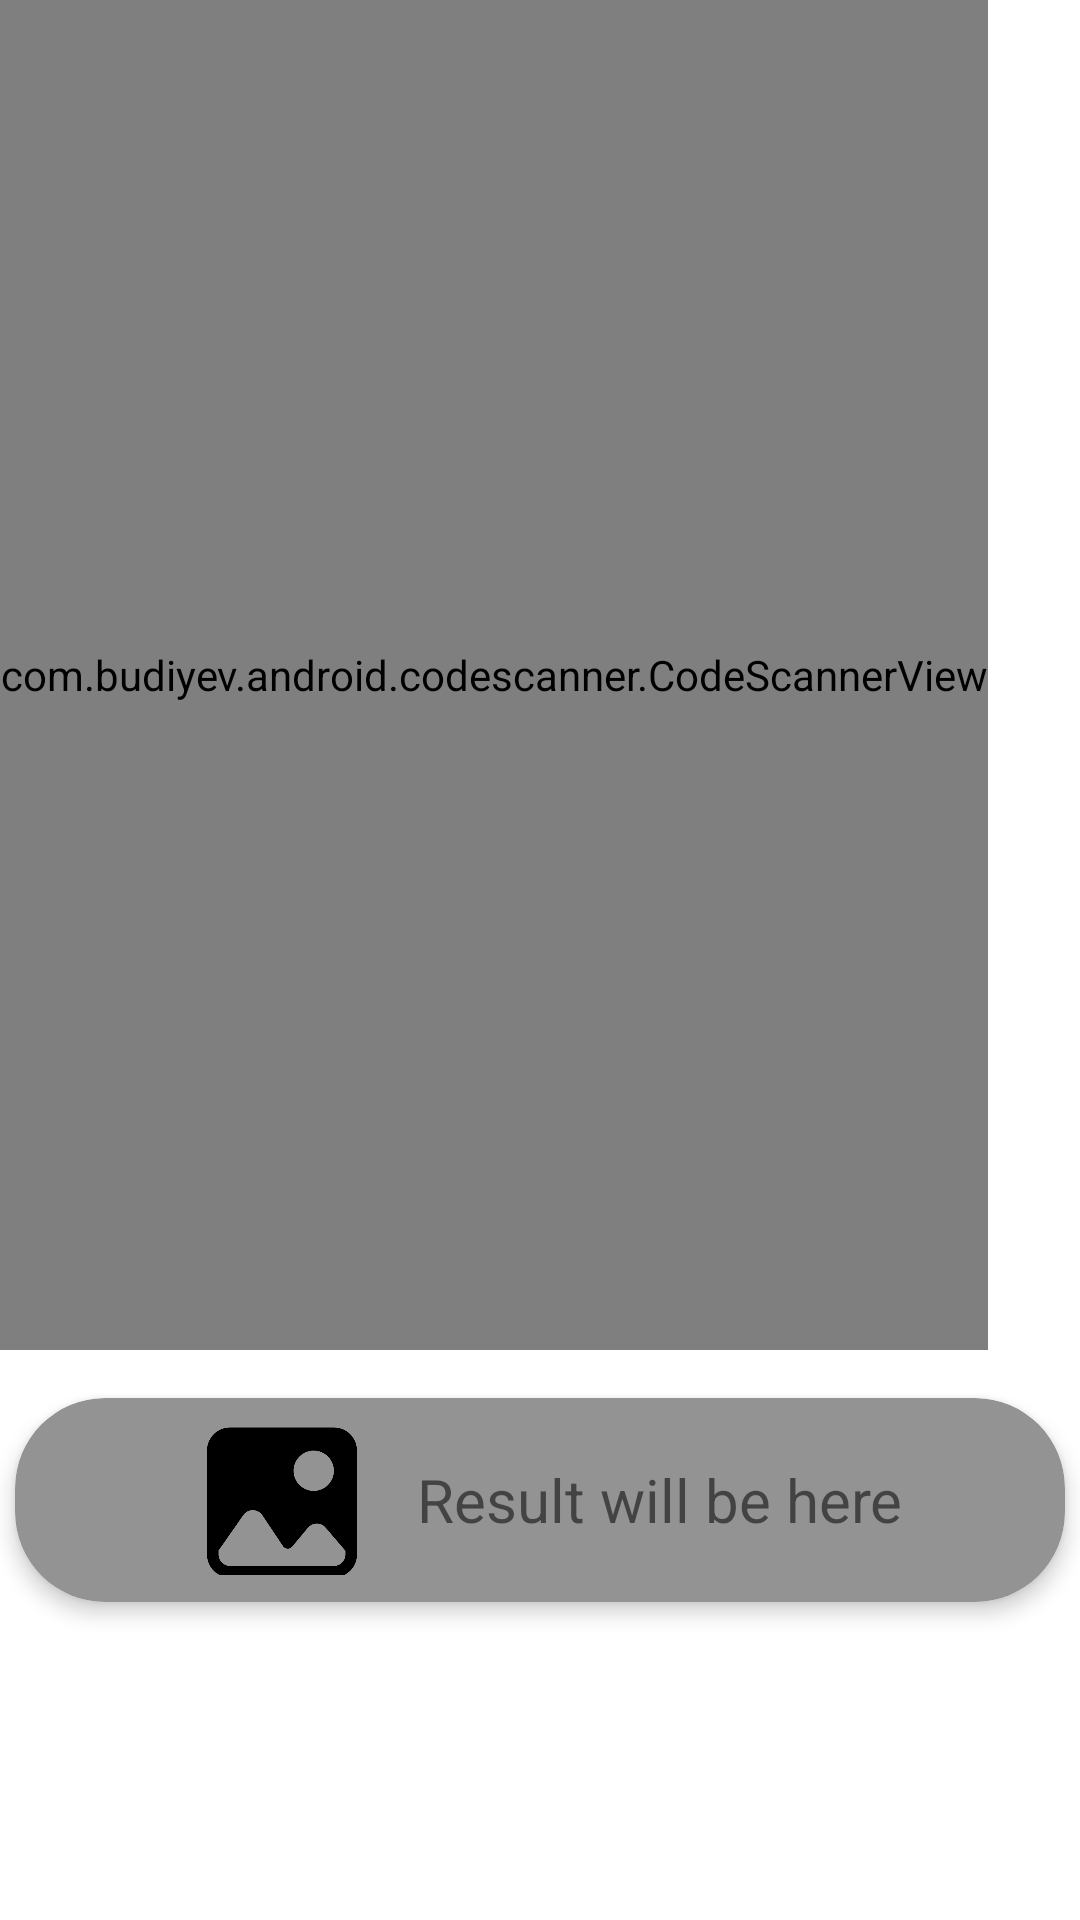

Locate icon controls on the screen. Image size 1080px×1920px, boxes as (x1, y1, x2, y2).
galeri: (207, 1427, 357, 1575)
